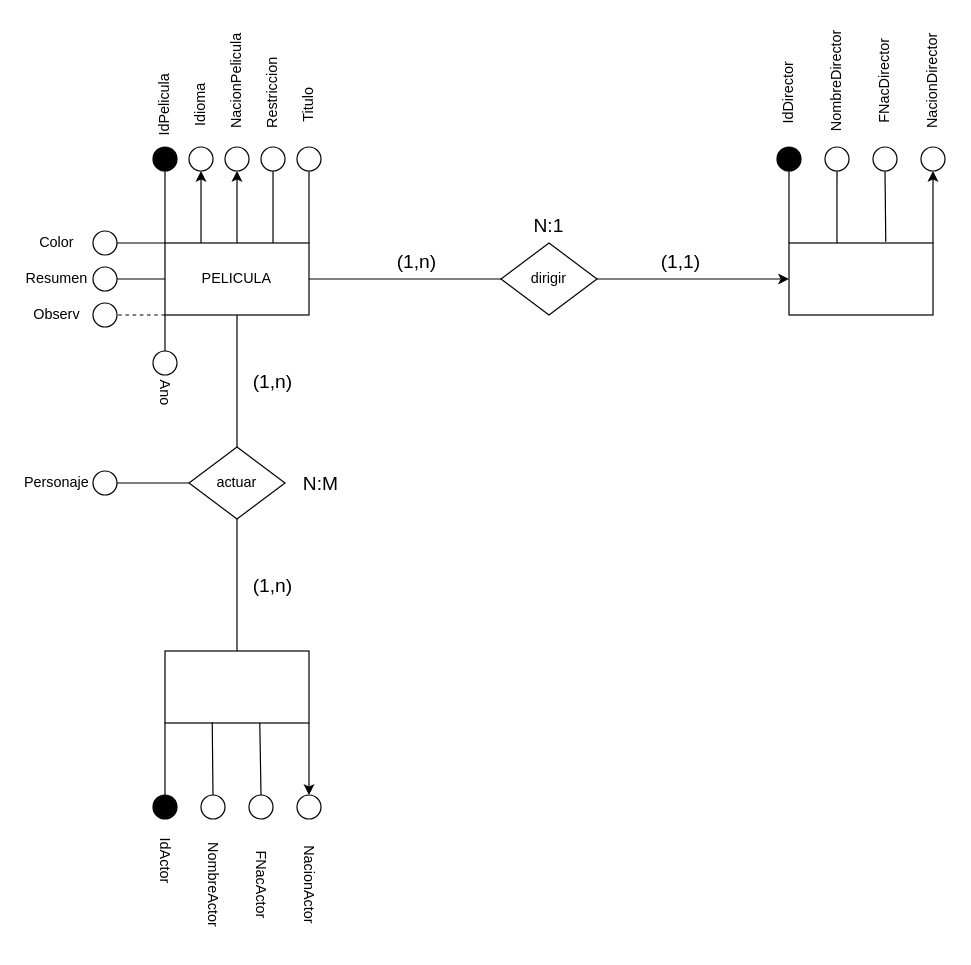
The diagram is 971 pixels wide and 965 high, and some of its shapes have lost their labels. The box of each missing label's shape, as (x1, y1, x2, y2) in pixels:
ACTOR: (164, 650, 309, 723)
DIRECTOR: (788, 242, 933, 315)
